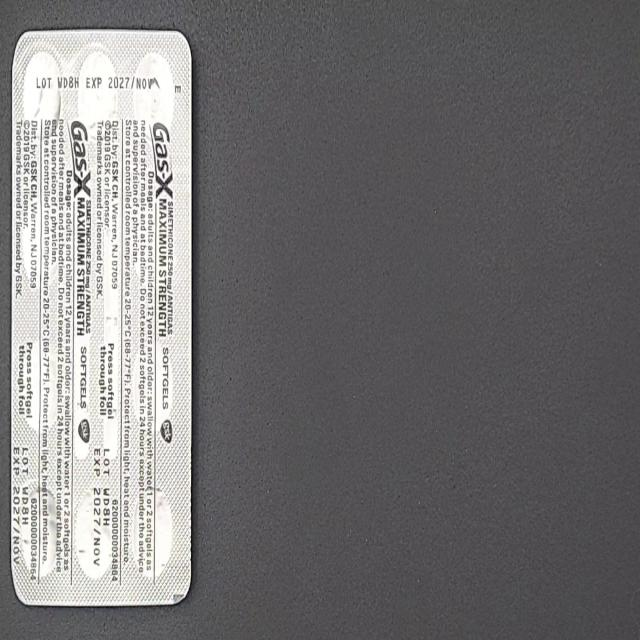no defect: (4, 5, 16, 28)
